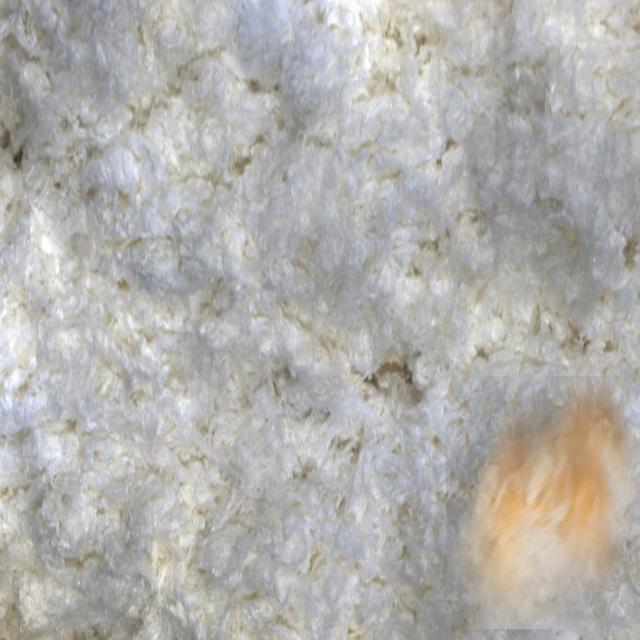dust: (446, 376, 640, 629)
